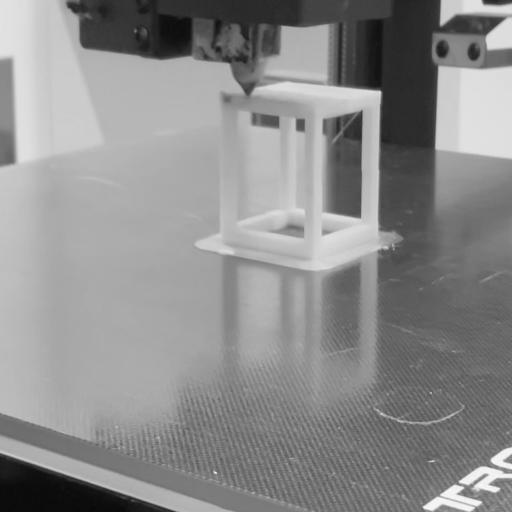spaghetti_and_stringing: (326, 120, 365, 152)
